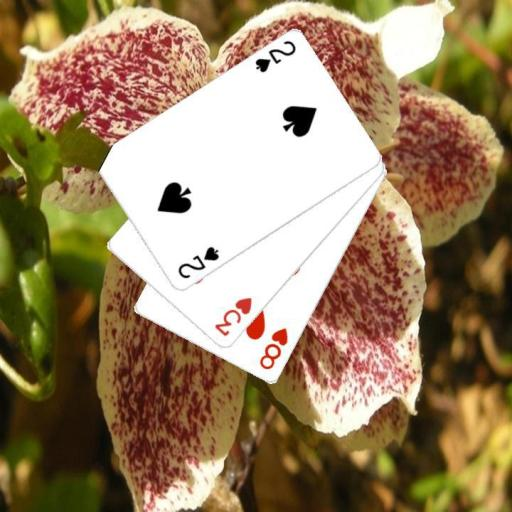2S: (175, 243, 221, 281), (252, 37, 298, 75)
3H: (211, 295, 254, 339)
8H: (256, 325, 289, 372)
